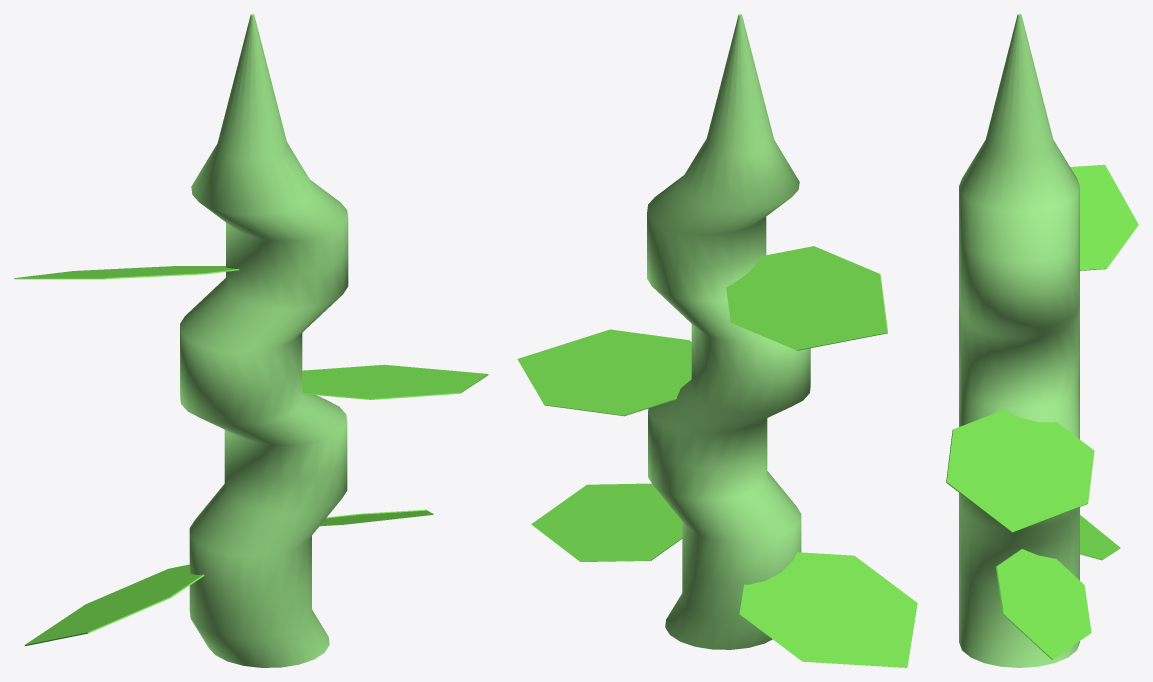
The model's file is SpinyVine.fbx.
3 renders of one model, left to right at view 1: azimuth 30°, elevation 25°; view 2: azimuth 150°, elevation 25°; view 3: azimuth 270°, elevation 25°, orthographic. The views are drawn at different scales.
Visible parts, largest first — view 1: SpinyVine1:pCube6; view 2: SpinyVine1:pCube6; view 3: SpinyVine1:pCube6.
Part boxes in pixels (bbox=[...]): SpinyVine1:pCube6: bbox=[14, 14, 488, 667]; SpinyVine1:pCube6: bbox=[517, 14, 917, 667]; SpinyVine1:pCube6: bbox=[946, 14, 1138, 667].
Bounding box in the file's own units: 0.7916 × 1.1 × 0.3108.
